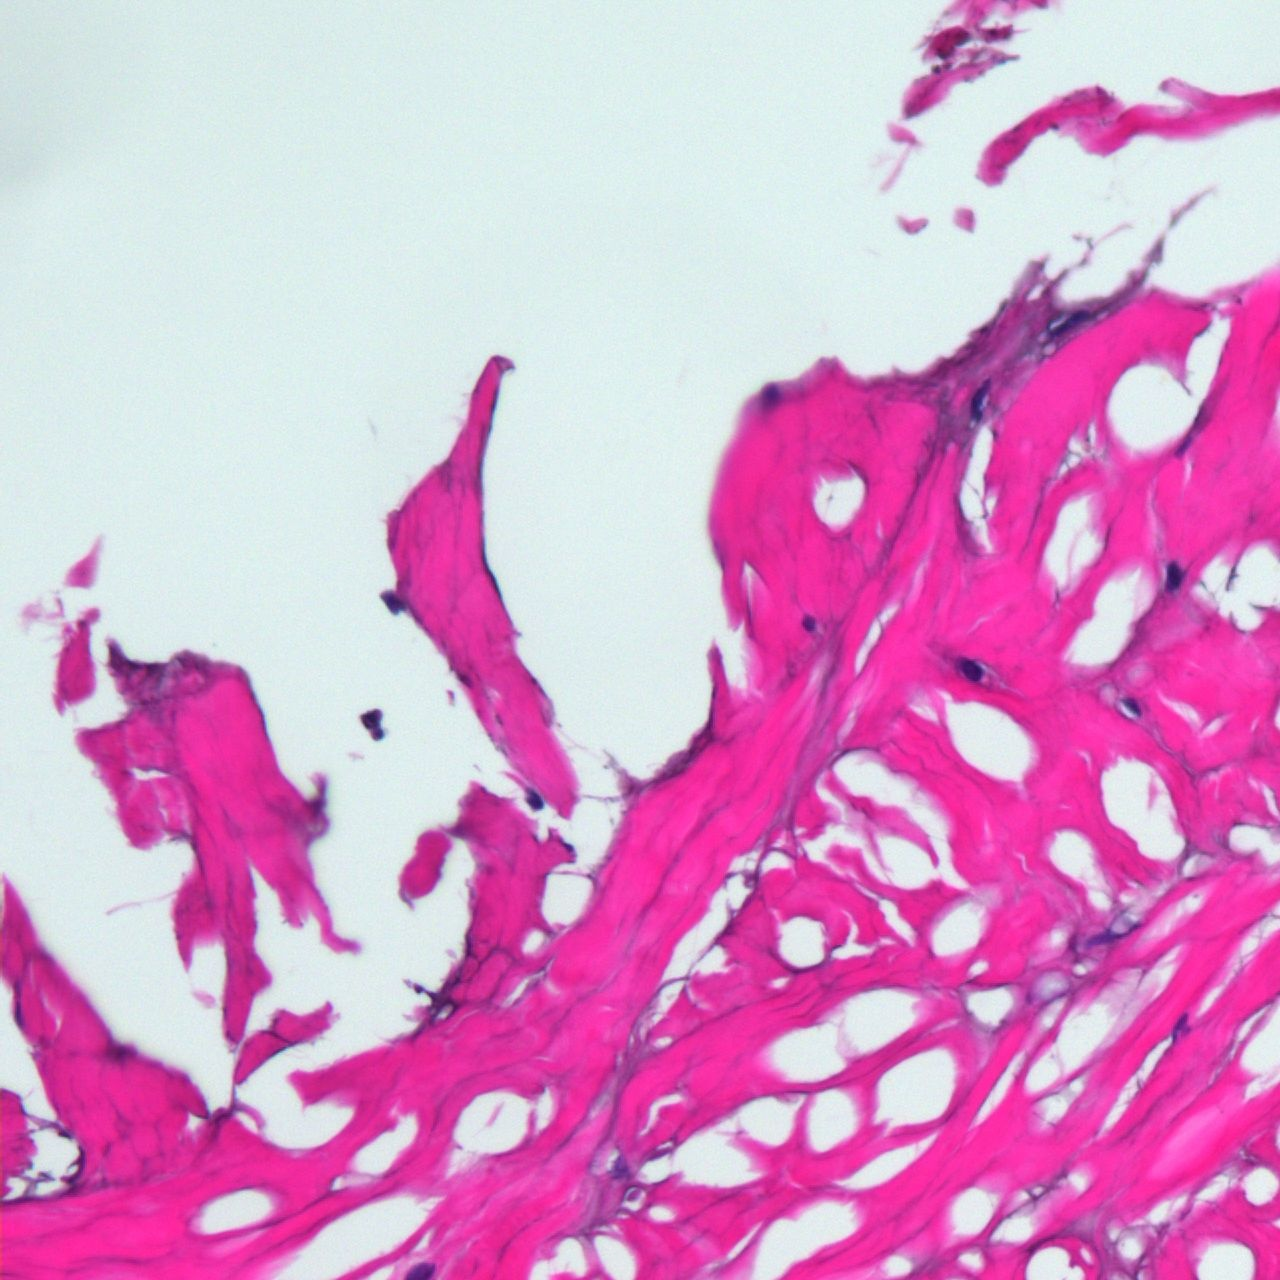nucleus-HE: (955, 654, 985, 684), (523, 789, 545, 812), (1166, 560, 1181, 592), (801, 614, 817, 628)
